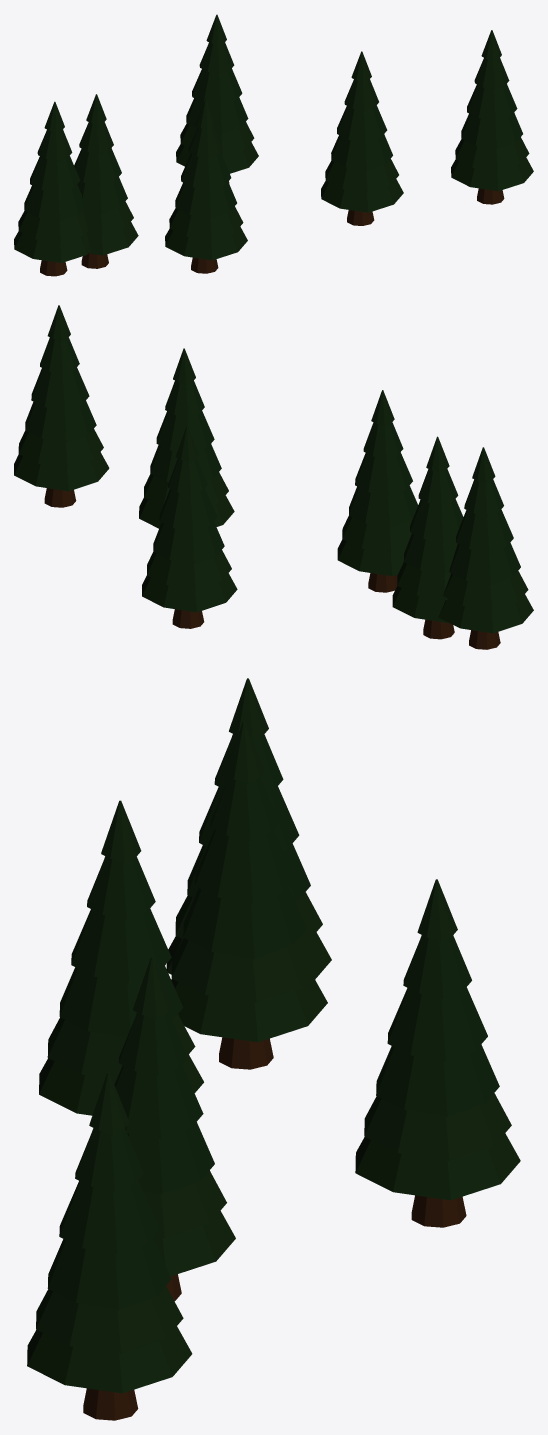
The model's file is trees.obj.
3 renders of one model, top to bottom at view 1: azimuth 30°, elevation 25°; view 2: azimuth 150°, elevation 25°; view 3: azimuth 270°, elevation 25°, orthographic. The views are drawn at different scales.
Parts seen in each view (by area): view 1: Cylinder.001, Cylinder.002, Cylinder.003, Cylinder, Cylinder.005, Cylinder.004; view 2: Cylinder.003, Cylinder.004, Cylinder, Cylinder.001, Cylinder.005, Cylinder.002; view 3: Cylinder.004, Cylinder.003, Cylinder.005, Cylinder.001, Cylinder.002, Cylinder.
Boxes of the visible parts, x1,y1,x2,y2 form: Cylinder.001: [165, 99, 247, 273]; Cylinder.002: [321, 51, 403, 225]; Cylinder.003: [451, 30, 533, 204]; Cylinder: [14, 101, 90, 276]; Cylinder.005: [74, 94, 138, 268]; Cylinder.004: [176, 14, 258, 183]; Cylinder.003: [14, 305, 109, 507]; Cylinder.004: [142, 426, 237, 628]; Cylinder: [438, 447, 533, 649]; Cylinder.001: [337, 390, 418, 592]; Cylinder.005: [392, 436, 463, 639]; Cylinder.002: [139, 348, 234, 528]; Cylinder.004: [355, 879, 520, 1227]; Cylinder.003: [27, 1072, 192, 1420]; Cylinder.005: [171, 721, 327, 1069]; Cylinder.001: [39, 800, 203, 1115]; Cylinder.002: [114, 956, 235, 1301]; Cylinder: [166, 678, 331, 979].
Bounding box in the file's own units: 15.08 × 5.26 × 6.79.
